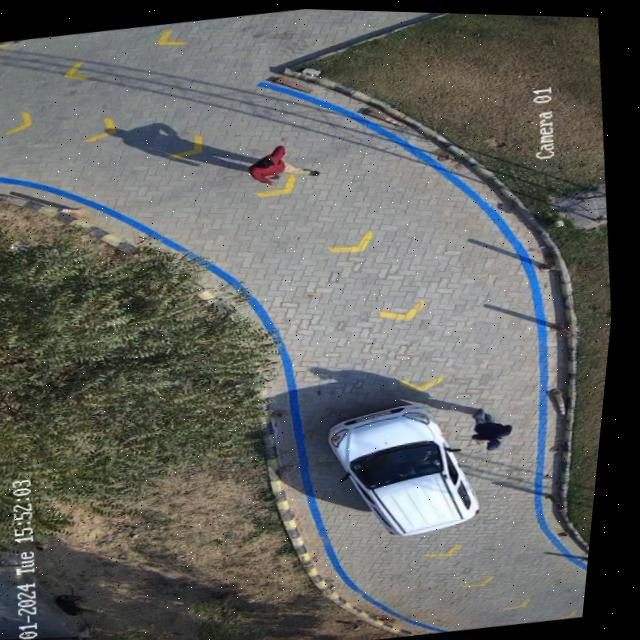car: (338, 399, 489, 531)
